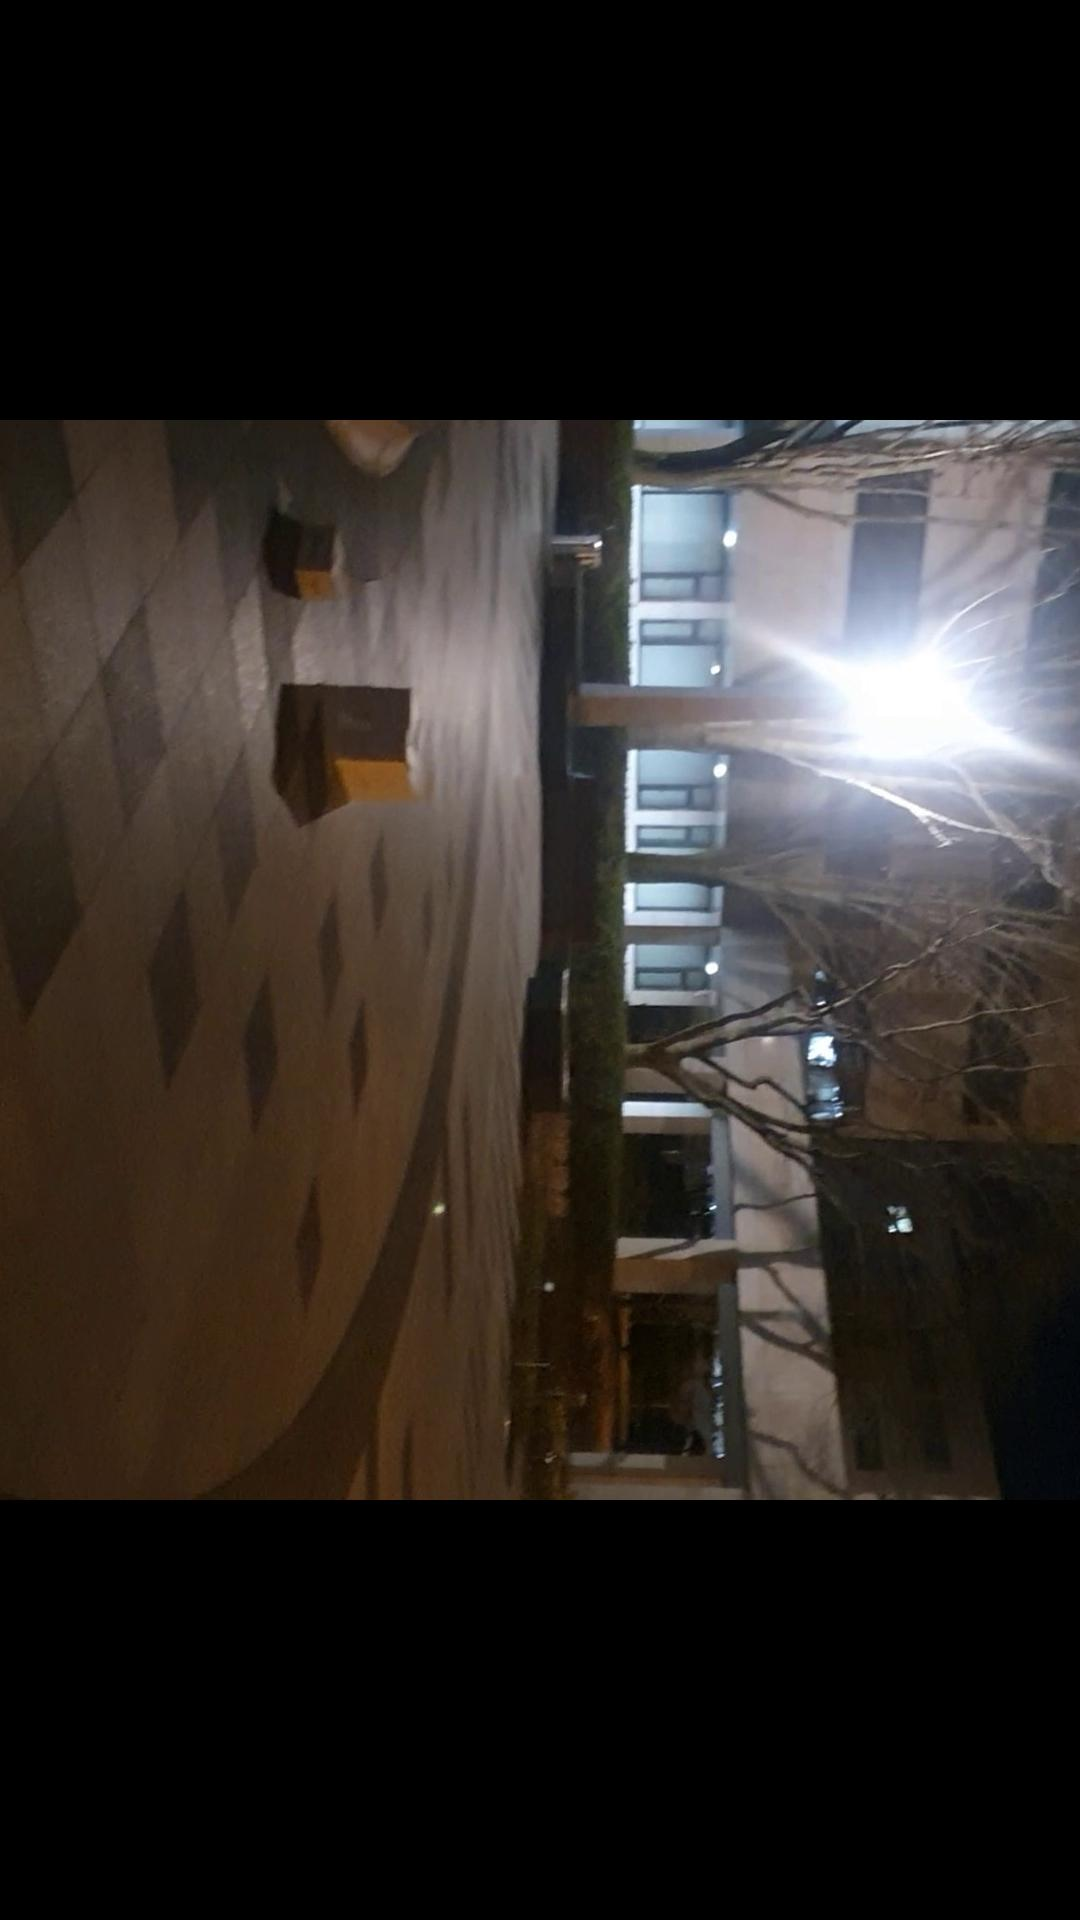Box: (318, 669, 430, 818), (290, 516, 355, 597)
